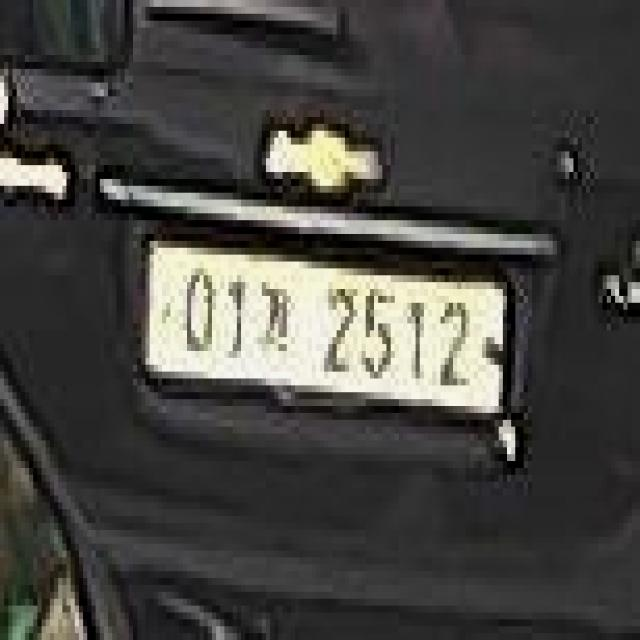illegal_plate: (138, 233, 516, 442)
